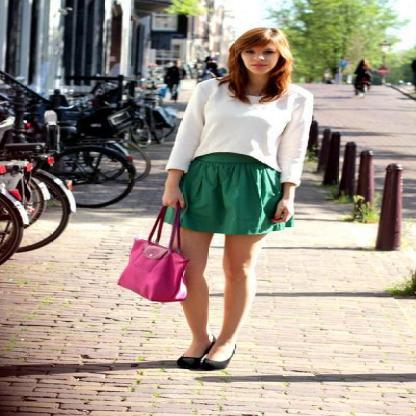bag: (118, 200, 186, 302)
shirt: (162, 78, 313, 198)
shoe: (162, 344, 211, 370)
skirt: (179, 152, 292, 235)
